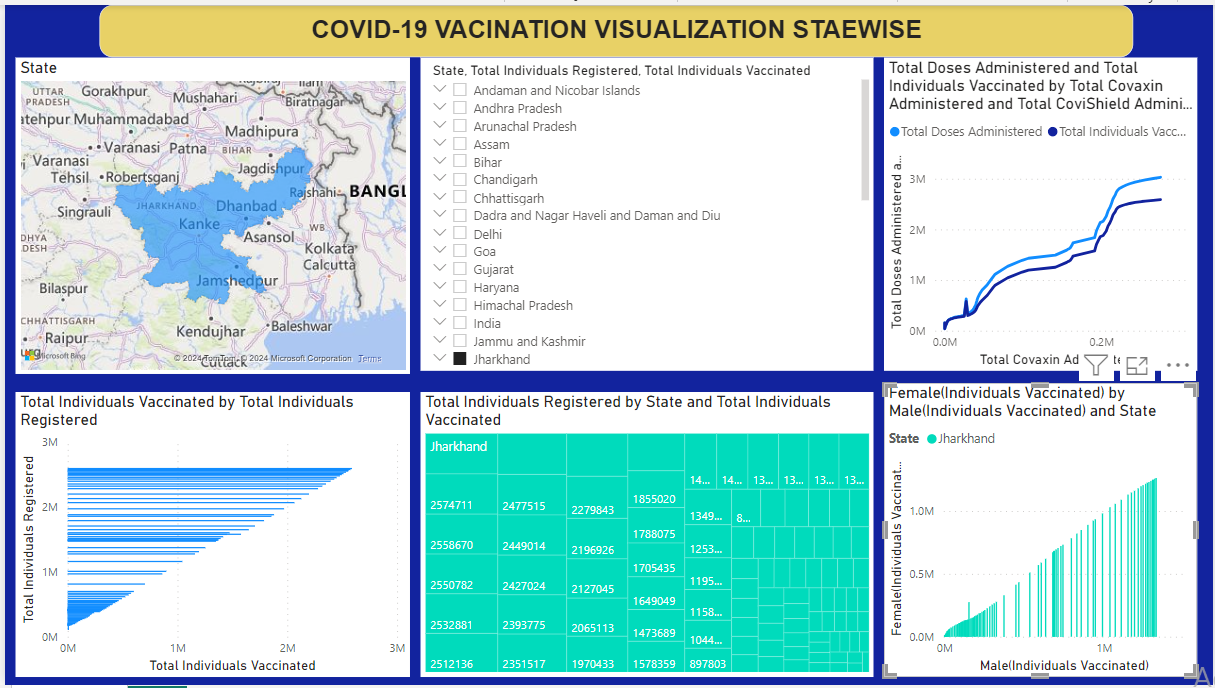

The page's visual inventory and layout, read from the dashboard file:
{"tool":"powerbi","page":{"name":"Page 2","canvas":[1280,720],"ordinal":1},"visuals":[{"type":"filledMap","fields":{"Category":["covid_vaccine_statewise.State"]},"box":[11.1,55.6,418,335.4],"z":0},{"type":"slicer","fields":{"Values":["covid_vaccine_statewise.State","covid_vaccine_statewise.Total Individuals Registered","covid_vaccine_statewise.Total Individuals Vaccinated"]},"box":[440.3,55.6,480,332.2],"z":1000},{"type":"lineStackedColumnComboChart","fields":{"Category":["covid_vaccine_statewise.Total Covaxin Administered"],"Y2":["Sum(covid_vaccine_statewise.Total Doses Administered)","Sum(covid_vaccine_statewise.Total Individuals Vaccinated)"],"Series":["covid_vaccine_statewise.Total CoviShield Administered"]},"box":[931.4,55.6,332.2,332.2],"z":2000},{"type":"barChart","fields":{"Category":["covid_vaccine_statewise.Total Individuals Registered"],"Y":["Sum(covid_vaccine_statewise.Total Individuals Vaccinated)"]},"box":[11.1,410.1,418,302],"z":3000},{"type":"treemap","fields":{"Group":["covid_vaccine_statewise.State"],"Details":["covid_vaccine_statewise.Total Individuals Vaccinated"],"Values":["Sum(covid_vaccine_statewise.Total Individuals Registered)"]},"box":[440.3,410.1,480,302],"z":4000},{"type":"columnChart","fields":{"Y":["Sum(covid_vaccine_statewise.Female(Individuals Vaccinated))"],"Category":["covid_vaccine_statewise.Male(Individuals Vaccinated)"],"Series":["covid_vaccine_statewise.State"]},"box":[931.4,400.5,332.2,311.5],"z":5000},{"type":"textbox","box":[100.1,0,1095.1,55.6],"z":6000}]}

Visuals, with their boxes in screenshot pixels (x1, y1, x2, y2), scaled from the page's 1280x720 canvas onto the 1215x688 screenshot:
filledMap - covid_vaccine_statewise.State: Rect(11, 53, 407, 374)
slicer - covid_vaccine_statewise.State x covid_vaccine_statewise.Total Individuals Registered: Rect(418, 53, 874, 371)
lineStackedColumnComboChart - covid_vaccine_statewise.Total Covaxin Administered x Sum(covid_vaccine_statewise.Total Doses Administered): Rect(884, 53, 1199, 371)
barChart - covid_vaccine_statewise.Total Individuals Registered x Sum(covid_vaccine_statewise.Total Individuals Vaccinated): Rect(11, 392, 407, 680)
treemap - covid_vaccine_statewise.State x covid_vaccine_statewise.Total Individuals Vaccinated: Rect(418, 392, 874, 680)
columnChart - Sum(covid_vaccine_statewise.Female(Individuals Vaccinated)) x covid_vaccine_statewise.Male(Individuals Vaccinated): Rect(884, 383, 1199, 680)
textbox: Rect(95, 0, 1135, 53)
